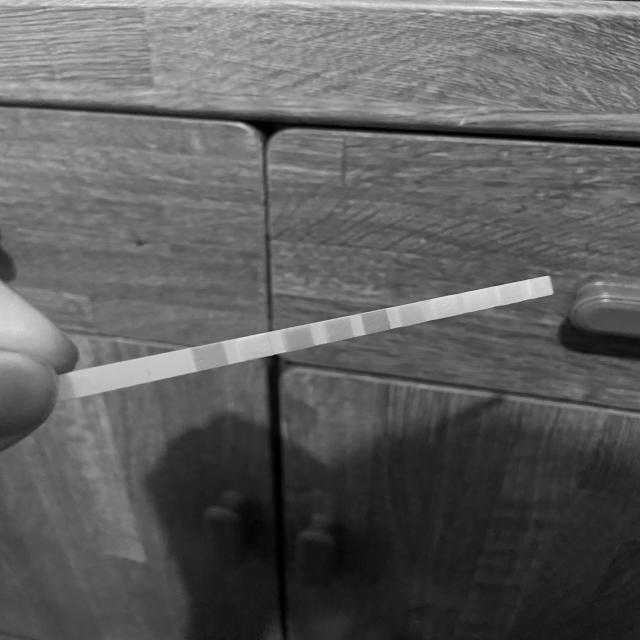Bilirubin: (242, 338, 268, 356)
Blood: (364, 313, 387, 330)
Glucose: (196, 348, 225, 365)
Ketone: (285, 329, 310, 347)
Leukocytes: (531, 279, 550, 295)
Nitrite: (500, 285, 519, 302)
Protein: (436, 298, 456, 315)
SpGravity: (326, 321, 349, 338)
Urobilinogen: (469, 292, 488, 308)
background: (0, 0, 640, 640)
pH: (401, 306, 421, 322)
strip: (66, 275, 554, 399)
